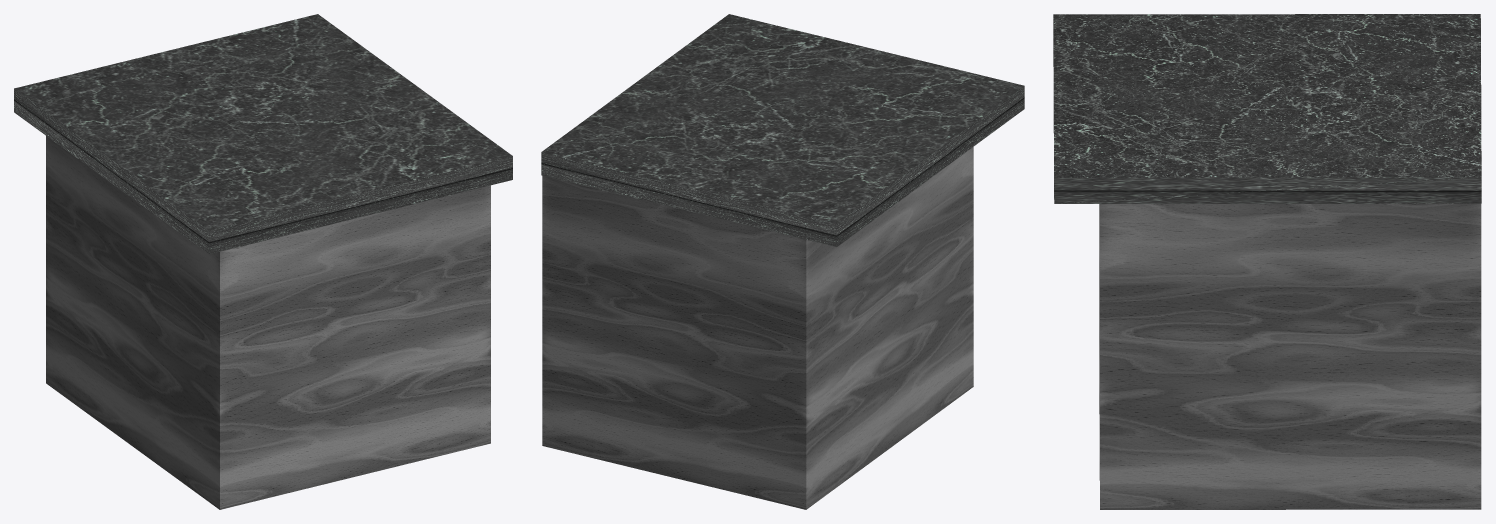
Rendered from KITCHEN_GRAY_CORNER.glb.
The picture shows the model from 3 angles, left to right: view 1: azimuth 30°, elevation 25°; view 2: azimuth 150°, elevation 25°; view 3: azimuth 270°, elevation 25°; orthographic projection. The views are drawn at different scales.
Visible parts, largest first — view 1: BODY, BAR; view 2: BODY, BAR; view 3: BODY, BAR.
Boxes of the visible parts, bbox=[...] form: BODY: bbox=[46, 136, 490, 509]; BAR: bbox=[14, 14, 512, 254]; BODY: bbox=[542, 147, 973, 509]; BAR: bbox=[541, 14, 1024, 246]; BODY: bbox=[1099, 203, 1481, 509]; BAR: bbox=[1053, 14, 1481, 203].
Bounding box in the file's own units: 0.8724 × 0.8271 × 0.9644.
2 materials, 2 textured.
